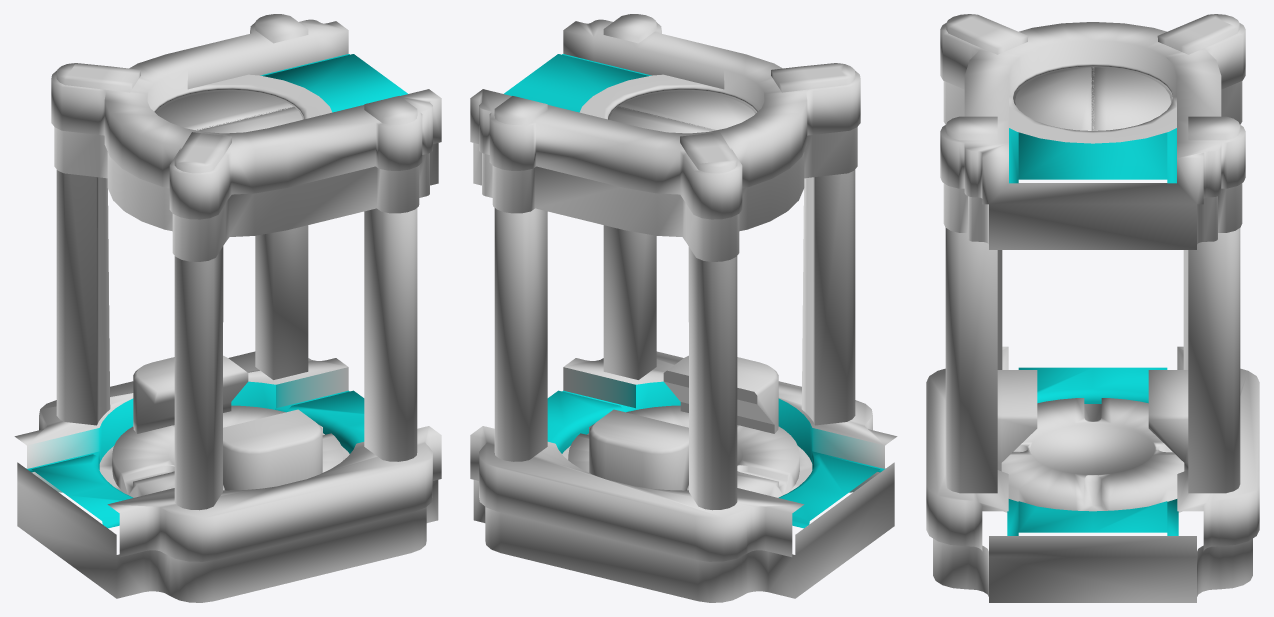
Rendered from StackerStraightInternalVariant.gltf.
The picture shows the model from 3 angles, left to right: view 1: azimuth 30°, elevation 25°; view 2: azimuth 150°, elevation 25°; view 3: azimuth 270°, elevation 25°; orthographic projection. The views are drawn at different scales.
Parts seen in each view (by area): view 1: Stacker_Straight_Main_LOD0, Stacker_Default_PusherLeft_LOD0.001, Stacker_Default_PusherRight_LOD0.001, Stacker_Default_DoorRight_LOD0.001, Stacker_Default_DoorLeft_LOD0.001; view 2: Stacker_Straight_Main_LOD0, Stacker_Default_PusherRight_LOD0.001, Stacker_Default_PusherLeft_LOD0.001, Stacker_Default_DoorLeft_LOD0.001, Stacker_Default_DoorRight_LOD0.001; view 3: Stacker_Straight_Main_LOD0, Stacker_Default_DoorRight_LOD0.001, Stacker_Default_DoorLeft_LOD0.001, Stacker_Default_PusherLeft_LOD0.001, Stacker_Default_PusherRight_LOD0.001.
Boxes of the visible parts, left/top/right/bottom form: Stacker_Straight_Main_LOD0: left=14, top=14, right=441, bottom=602; Stacker_Default_PusherLeft_LOD0.001: left=223, top=409, right=322, bottom=490; Stacker_Default_PusherRight_LOD0.001: left=133, top=355, right=248, bottom=433; Stacker_Default_DoorRight_LOD0.001: left=156, top=91, right=293, bottom=130; Stacker_Default_DoorLeft_LOD0.001: left=197, top=106, right=302, bottom=133; Stacker_Straight_Main_LOD0: left=470, top=14, right=897, bottom=602; Stacker_Default_PusherRight_LOD0.001: left=589, top=409, right=688, bottom=490; Stacker_Default_PusherLeft_LOD0.001: left=663, top=355, right=778, bottom=433; Stacker_Default_DoorLeft_LOD0.001: left=618, top=91, right=755, bottom=130; Stacker_Default_DoorRight_LOD0.001: left=609, top=106, right=716, bottom=133; Stacker_Straight_Main_LOD0: left=926, top=14, right=1259, bottom=602; Stacker_Default_DoorRight_LOD0.001: left=1091, top=67, right=1170, bottom=130; Stacker_Default_DoorLeft_LOD0.001: left=1015, top=67, right=1094, bottom=130; Stacker_Default_PusherLeft_LOD0.001: left=997, top=370, right=1037, bottom=471; Stacker_Default_PusherRight_LOD0.001: left=1148, top=370, right=1188, bottom=471.
Size of the model in its own units: 1 by 1.28 by 0.8565.
